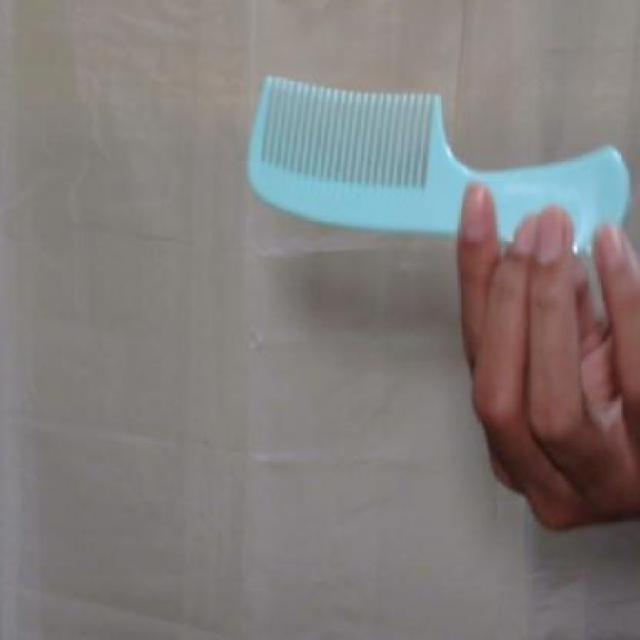Plastic: (231, 46, 640, 268)
